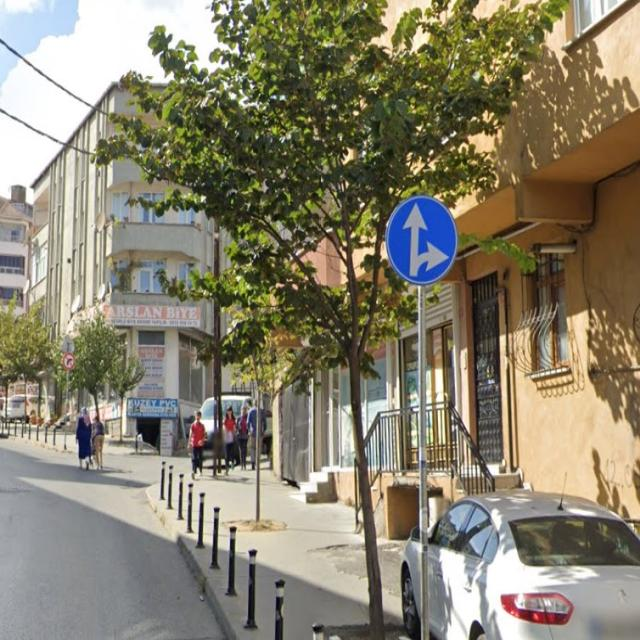ilerisag: (387, 198, 458, 286)
